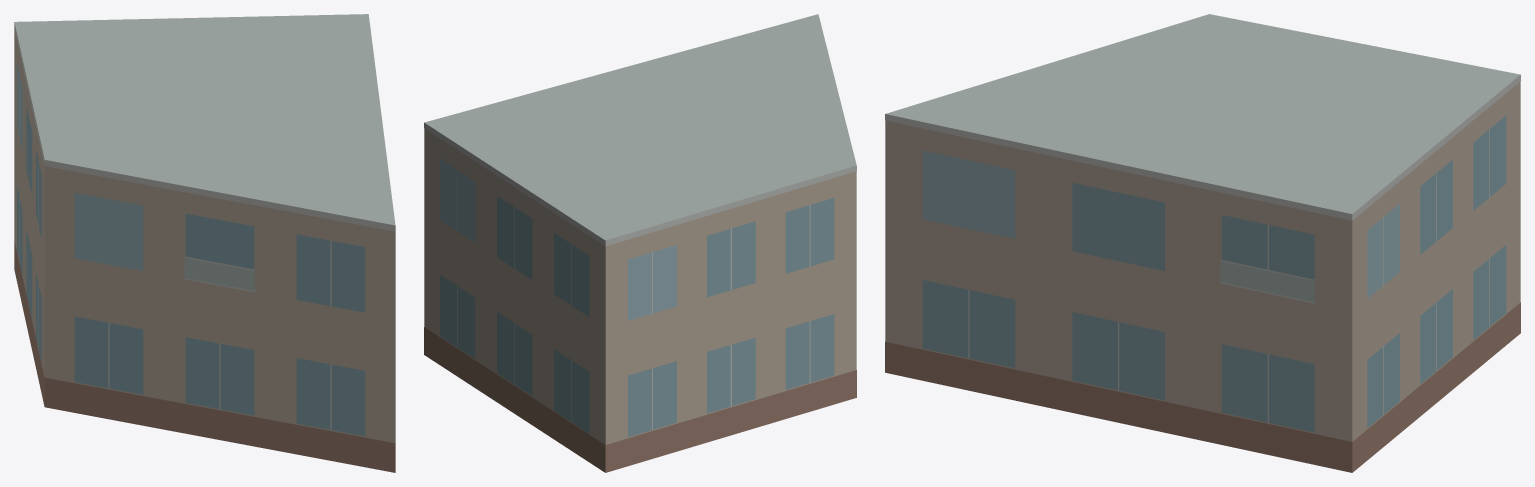
File: survey-upis-32982845.glb
The picture shows the model from 3 angles, left to right: view 1: azimuth 30°, elevation 25°; view 2: azimuth 150°, elevation 25°; view 3: azimuth 270°, elevation 25°; orthographic projection. The views are drawn at different scales.
Parts seen in each view (by area): view 1: survey-upis-32982845.tmp; view 2: survey-upis-32982845.tmp; view 3: survey-upis-32982845.tmp.
Part boxes in pixels (x1,y1,x2,y2): survey-upis-32982845.tmp: (14,14,395,472); survey-upis-32982845.tmp: (424,14,856,472); survey-upis-32982845.tmp: (885,14,1520,472).
Size of the model in its own units: 16.19 by 9.75 by 21.72.
